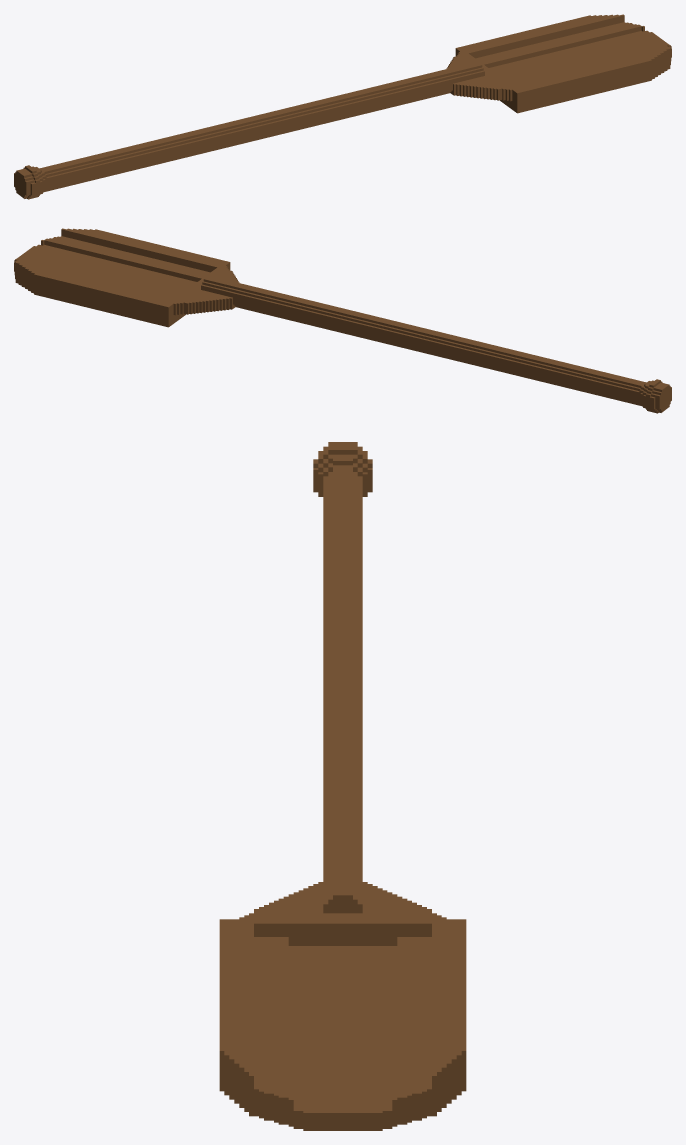
Rendered from primitive_shovel.glb.
3 renders of one model, top to bottom at view 1: azimuth 30°, elevation 25°; view 2: azimuth 150°, elevation 25°; view 3: azimuth 270°, elevation 25°, orthographic. The views are drawn at different scales.
Parts seen in each view (by area): view 1: primitive_shovel:compound; view 2: primitive_shovel:compound; view 3: primitive_shovel:compound.
Boxes of the visible parts, x1,y1,x2,y2 form: primitive_shovel:compound: (14,14,671,199); primitive_shovel:compound: (14,228,671,413); primitive_shovel:compound: (219,442,466,1130).
Bounding box in the file's own units: 1.2 × 0.06 × 0.2.
